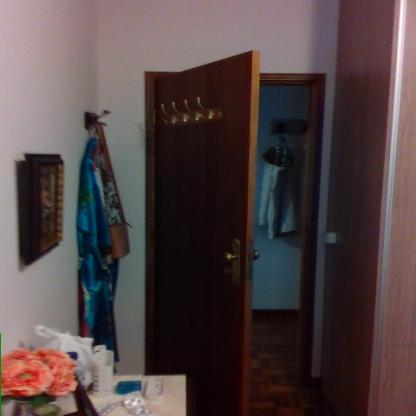semi: (136, 52, 335, 411)
